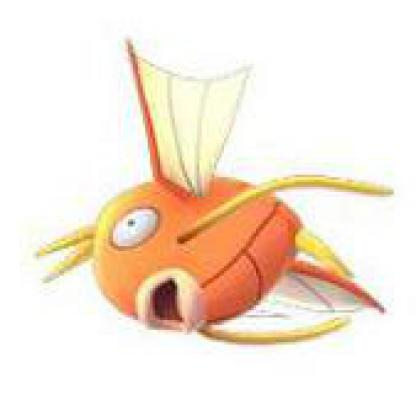Magikarp: (1, 1, 398, 415)
